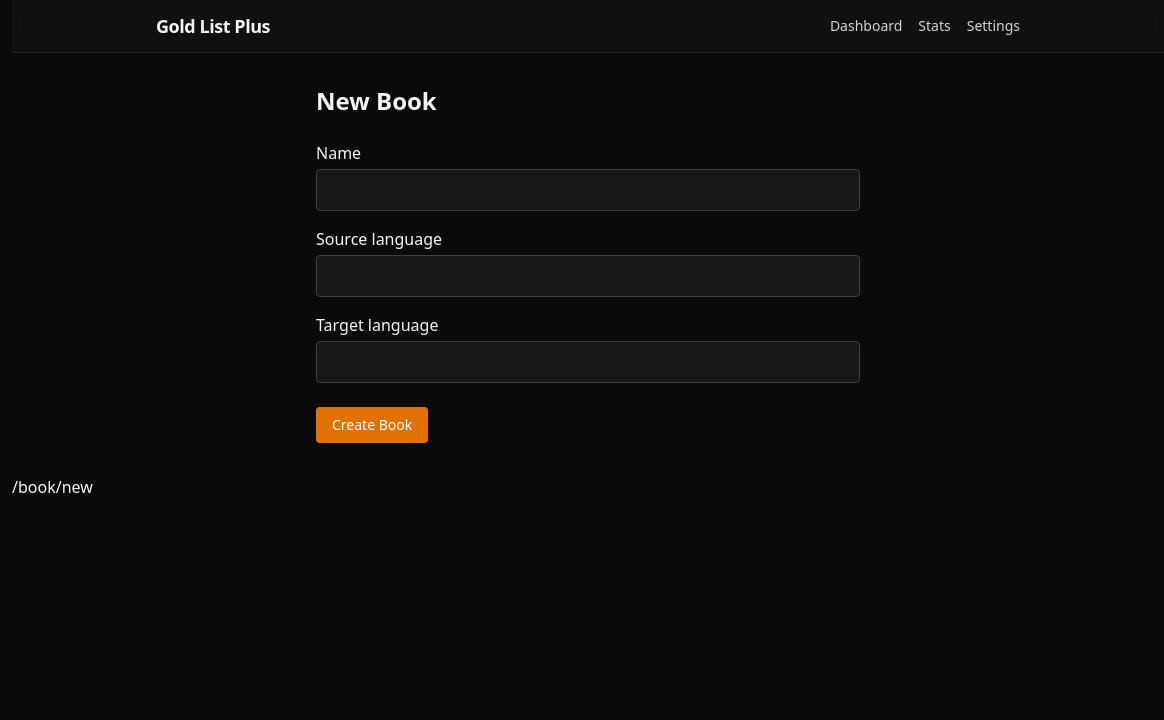
TASK-010 AC-4: empty-form submit is blocked with all three inline errors › TASK-010 AC-4: all three error elements appear with exact text after empty submit
What coordinates should you click on to do the following:
click the button "Create Book"
I would click on:
 (372, 425)
Its box is x1=316 y1=407 x2=428 y2=443.
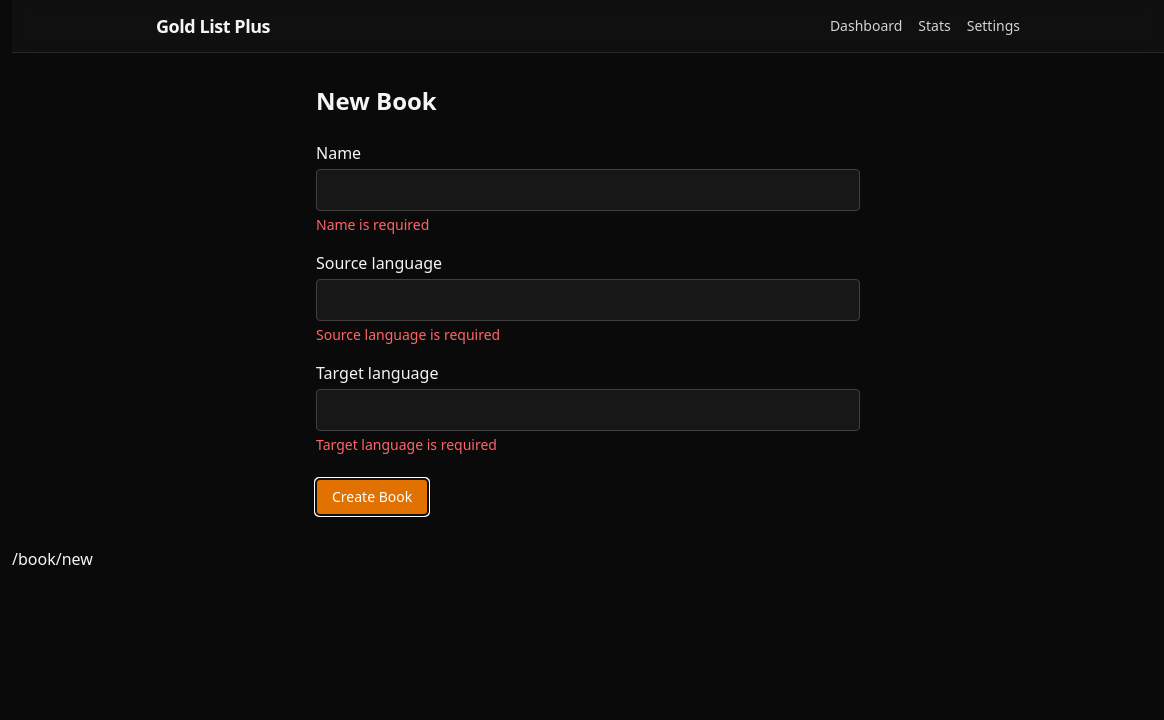
Result: the message with test id "error-name" reads "Name is required" at x1=316 y1=215 x2=429 y2=234
Result: the message with test id "error-sourceLang" reads "Source language is required" at x1=316 y1=325 x2=500 y2=344
Result: the message with test id "error-targetLang" reads "Target language is required" at x1=316 y1=435 x2=497 y2=454
